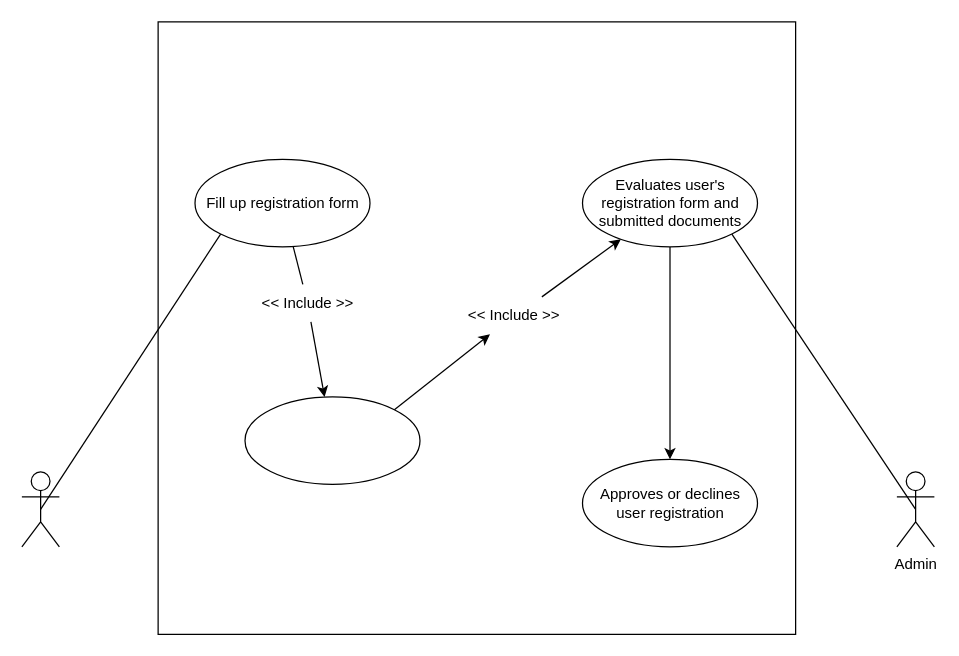
Image size: 959x656. Some labels were removed from this diagram. Here are the shapes that lost their labels. From the top down, the box of each, then its label:
(244, 396, 420, 484): Submits required documents
(21, 471, 59, 547): User
